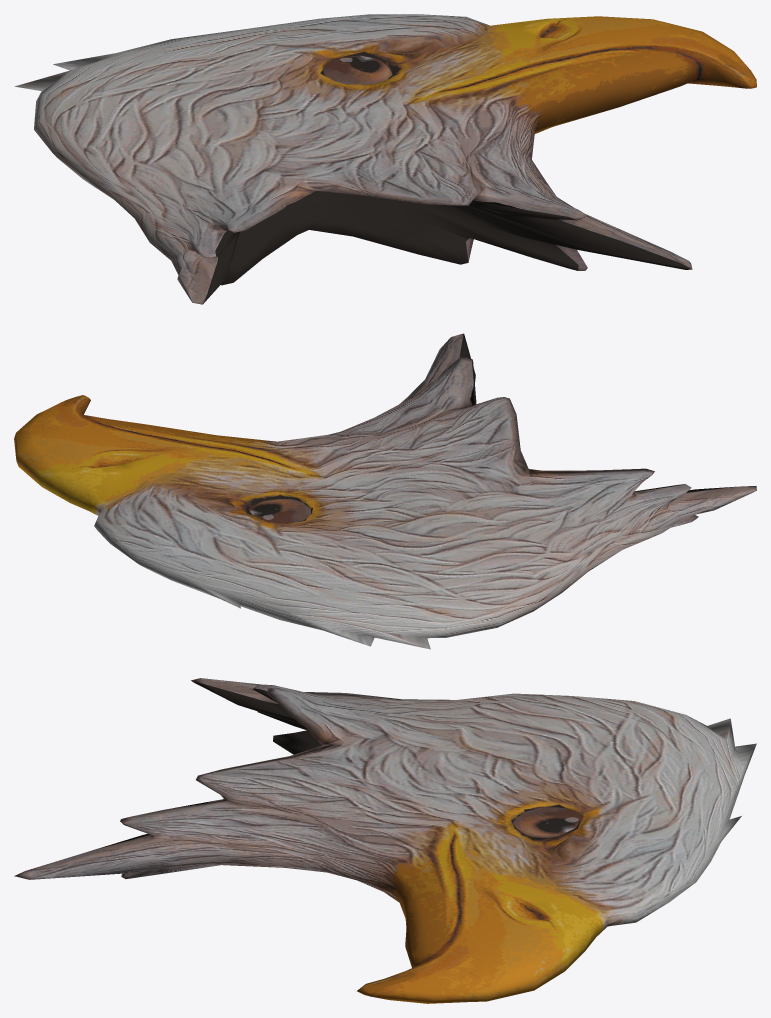
Rendered from EagleMask_Ground.fbx.
3 renders of one model, top to bottom at view 1: azimuth 30°, elevation 25°; view 2: azimuth 150°, elevation 25°; view 3: azimuth 270°, elevation 25°, orthographic. The views are drawn at different scales.
Parts seen in each view (by area): view 1: 24_Mask_0.5_16_16.001; view 2: 24_Mask_0.5_16_16.001; view 3: 24_Mask_0.5_16_16.001.
Part boxes in pixels (x1,y1,x2,y2): 24_Mask_0.5_16_16.001: (14,14,756,304); 24_Mask_0.5_16_16.001: (14,333,756,649); 24_Mask_0.5_16_16.001: (14,678,756,1003).
Size of the model in its own units: 0.2675 by 0.0243 by 0.2598.
